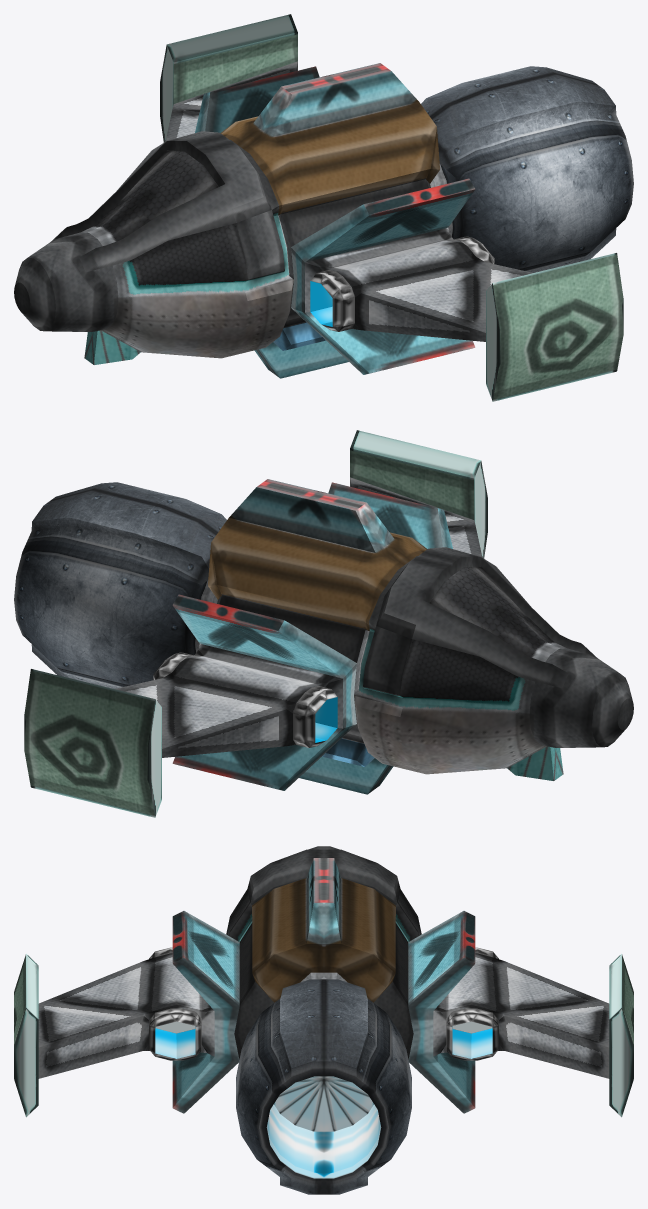
The model's file is GG-fighter.FBX.
3 renders of one model, top to bottom at view 1: azimuth 30°, elevation 25°; view 2: azimuth 150°, elevation 25°; view 3: azimuth 270°, elevation 25°, orthographic. The views are drawn at different scales.
Visible parts, largest first — view 1: Cylinder001; view 2: Cylinder001; view 3: Cylinder001.
Boxes of the visible parts, x1,y1,x2,y2 form: Cylinder001: (14,14,633,401); Cylinder001: (14,430,633,817); Cylinder001: (14,846,633,1194).
Size of the model in its own units: 2.95 by 1.37 by 3.01.
